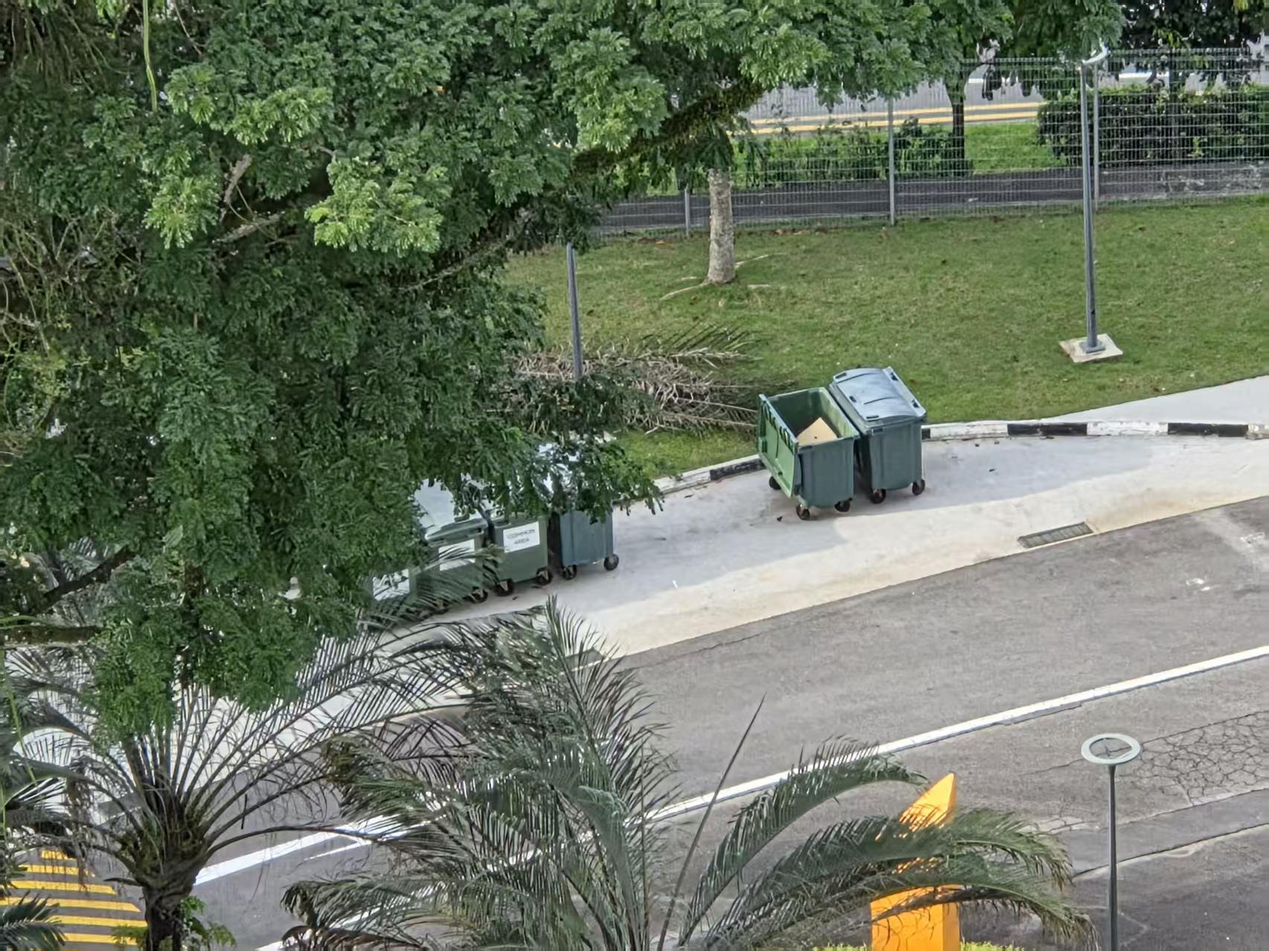bin_empty: (757, 387, 859, 520), (827, 367, 925, 503)
